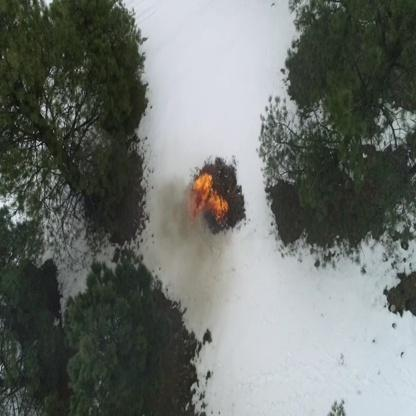Fire: (205, 190, 226, 228), (192, 175, 210, 216)
